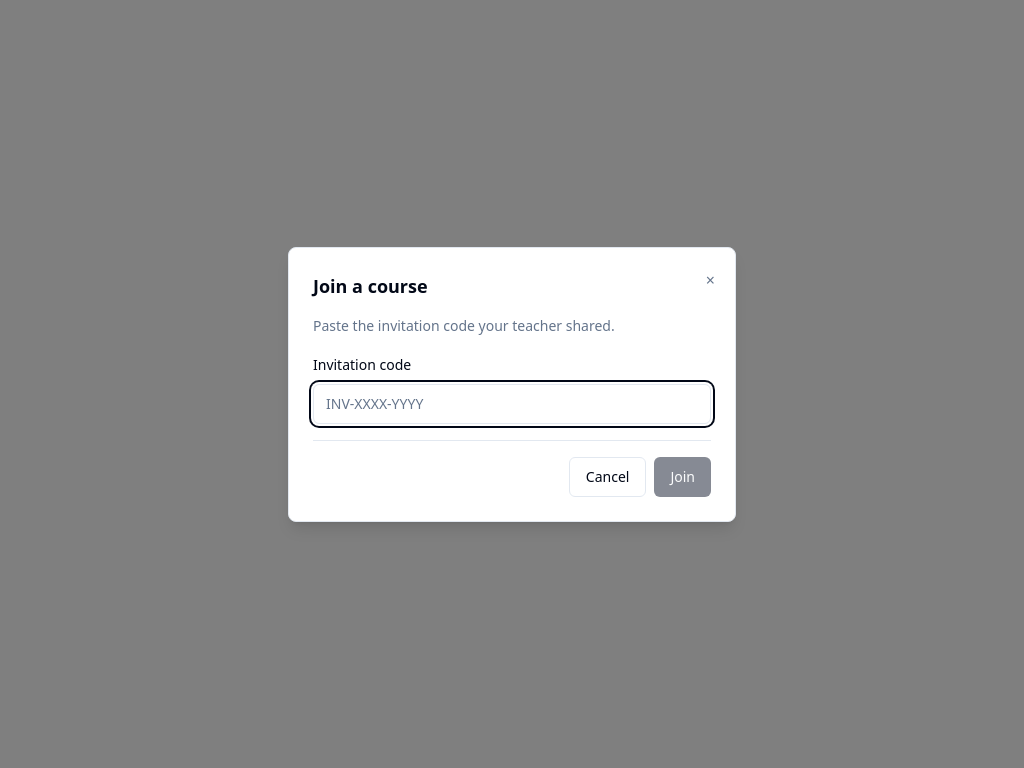
Test case: JoinCourseDialog › disables the Join button until a code is entered
The width and height of the screenshot is (1024, 768).
Expected: the button "Join" is disabled, [654,456,711,496]
Type "INV-AAAA-BBBB" into the field labelled "Invitation code". click: {"x": 512, "y": 404}
box: [313,384,711,424]
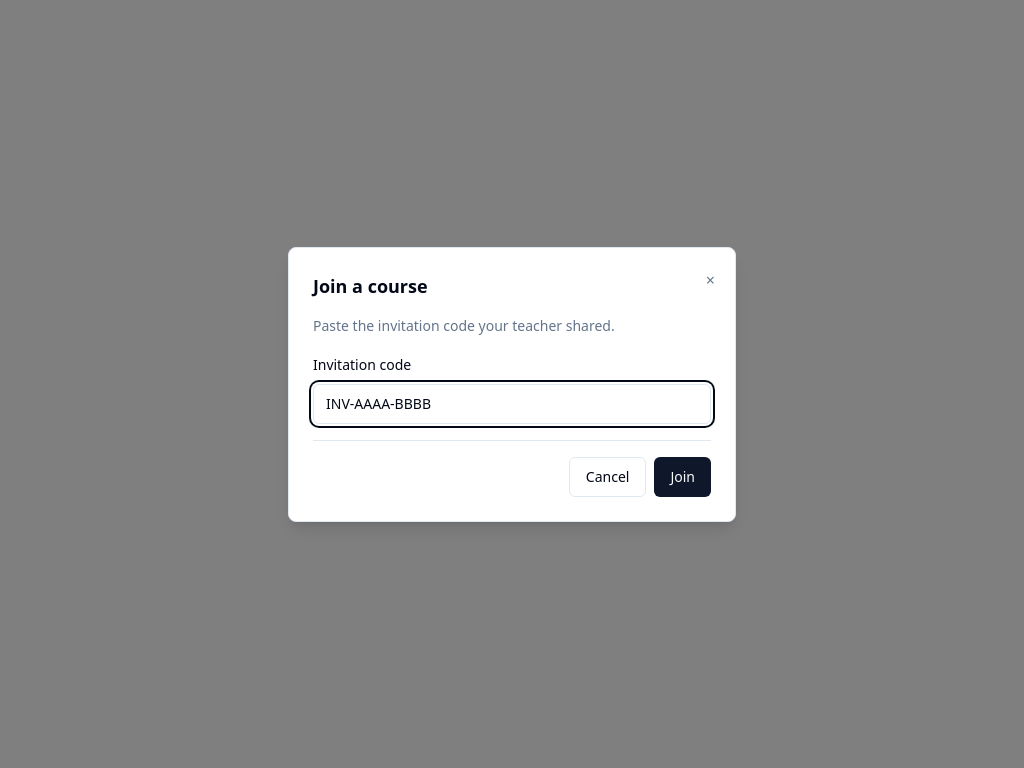
Expected: the button "Join" is enabled, [654,456,711,496]
